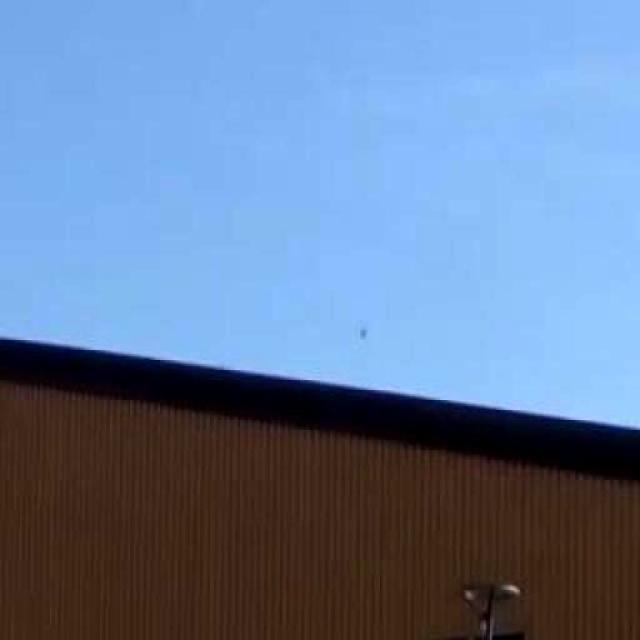drone: (342, 302, 389, 359)
